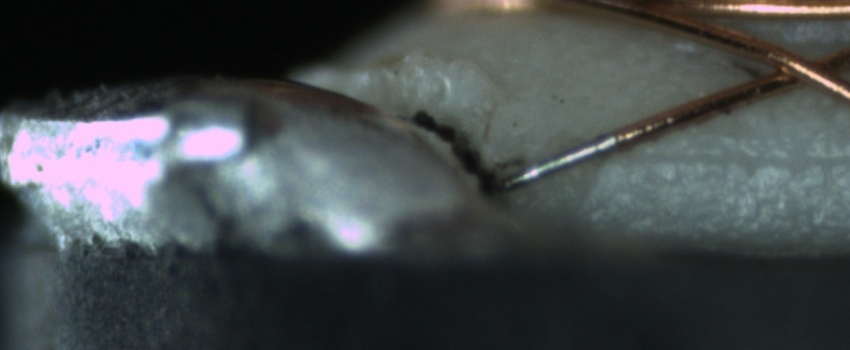CL: (747, 41, 846, 100)
DL: (613, 126, 850, 190)
TS: (495, 133, 619, 195)
